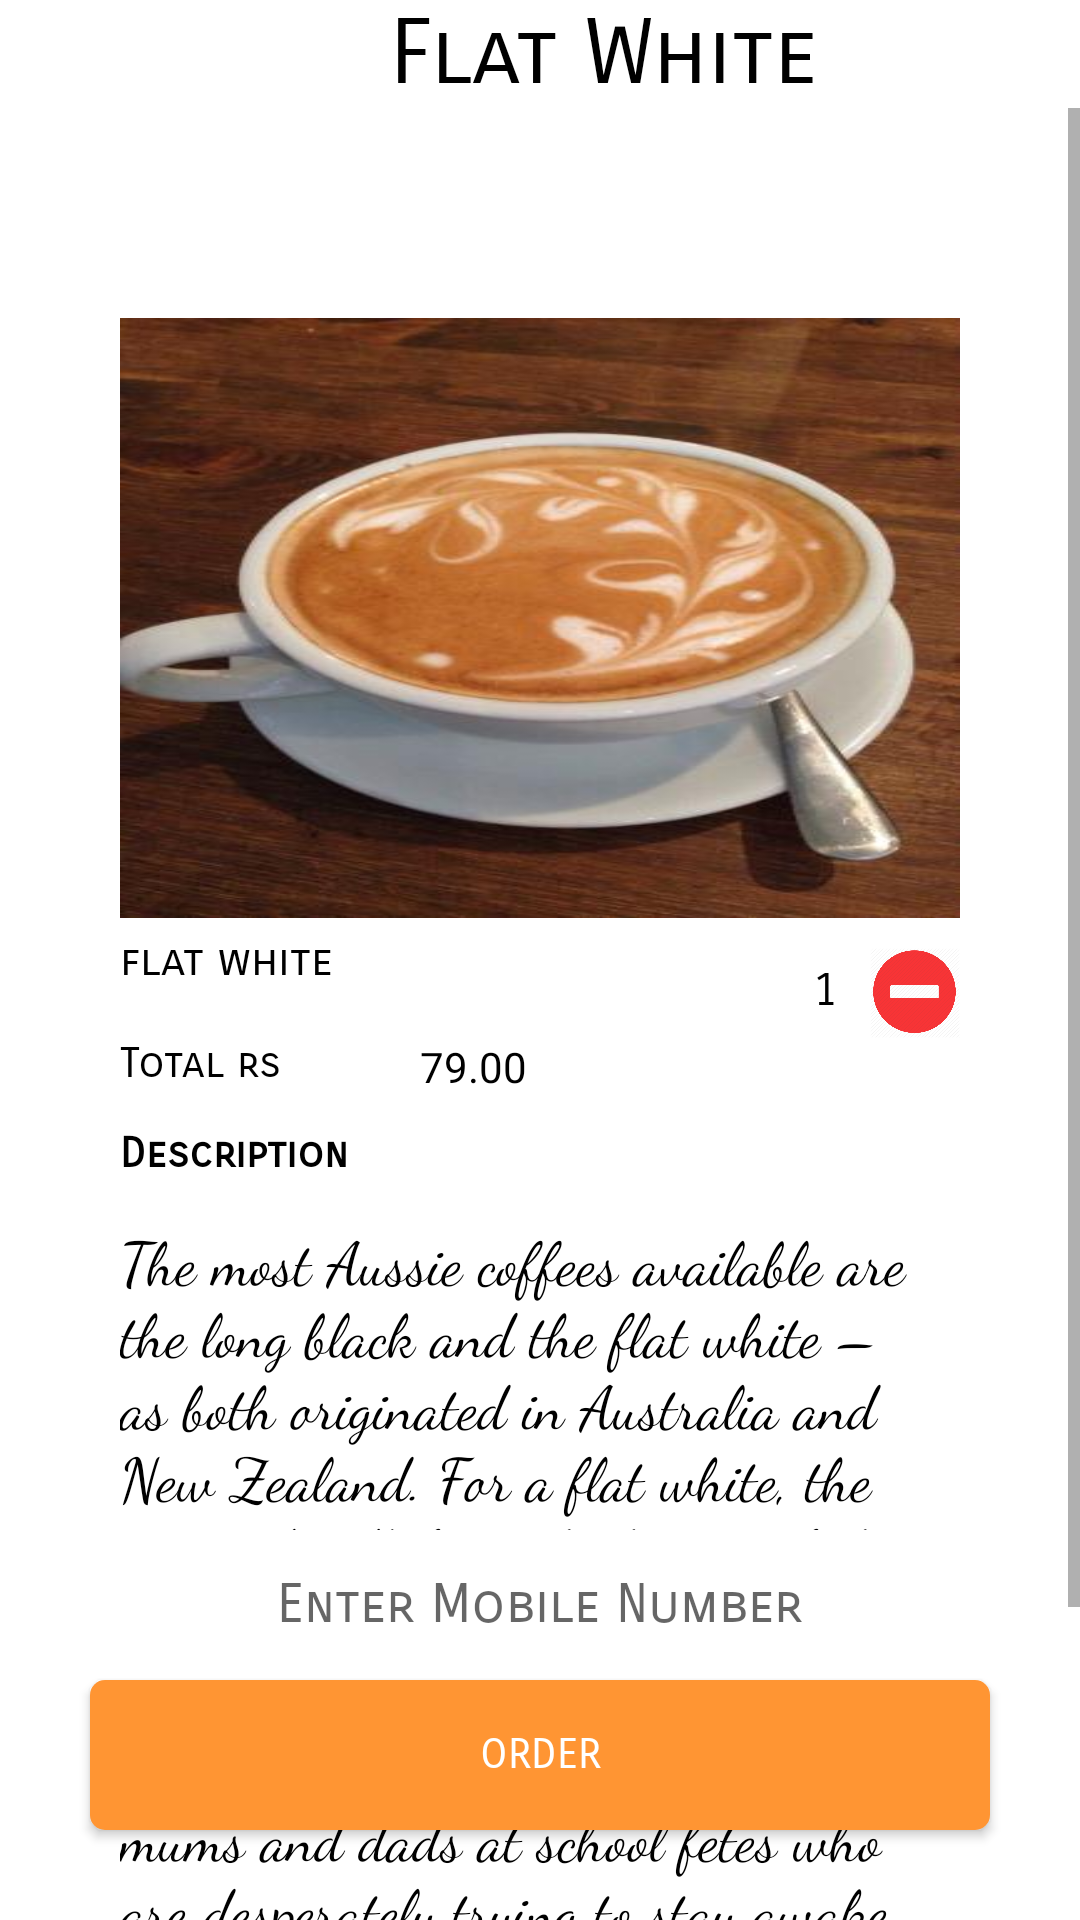

Screen size 1080x1920. Icon name, then its center in pixels as (x=x, y=y):
minus: (x=914, y=991)
